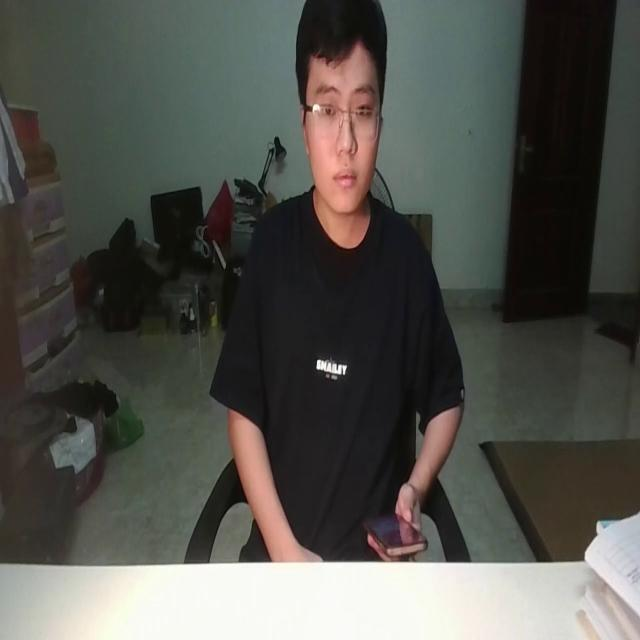phone: (356, 500, 428, 555)
student: (210, 0, 464, 559)
